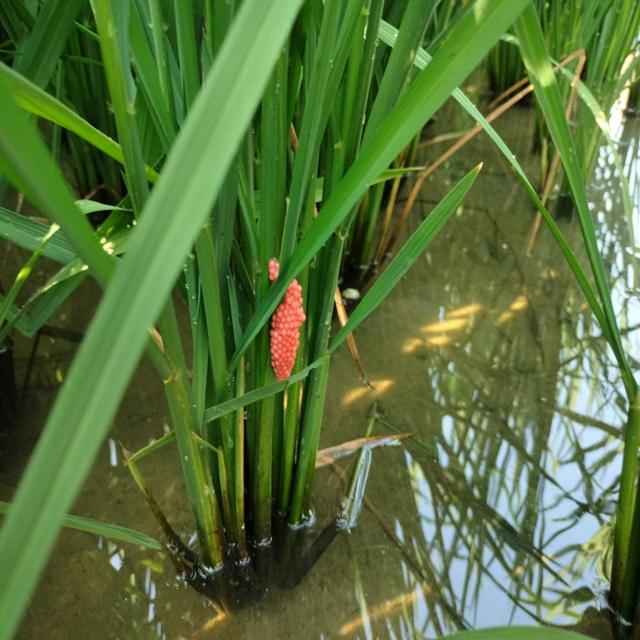Leaf blast: (263, 251, 308, 390)
